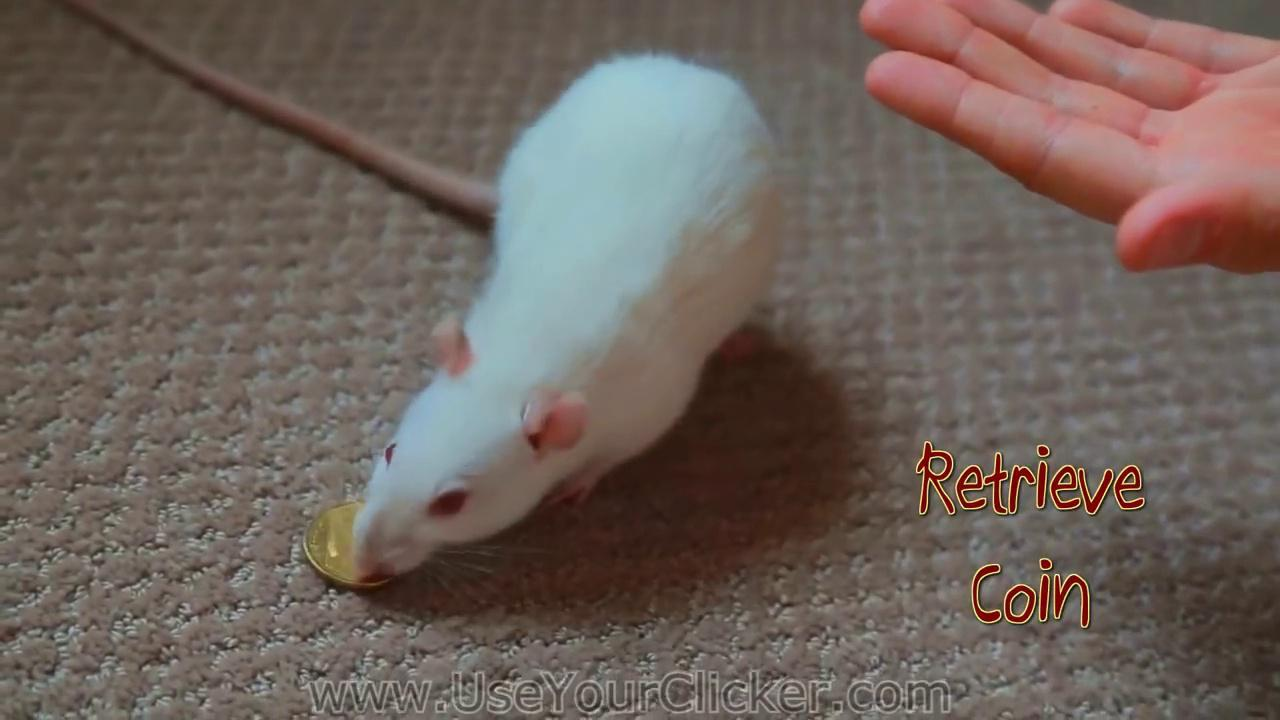rat: (59, 1, 781, 585)
